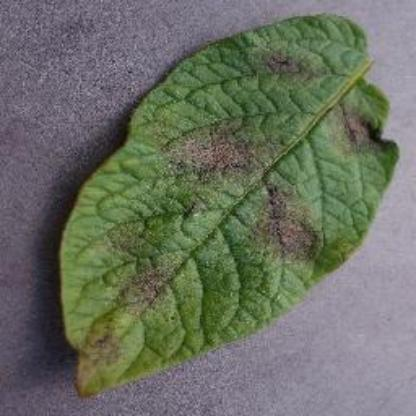Late-Blight: (37, 10, 406, 402)
